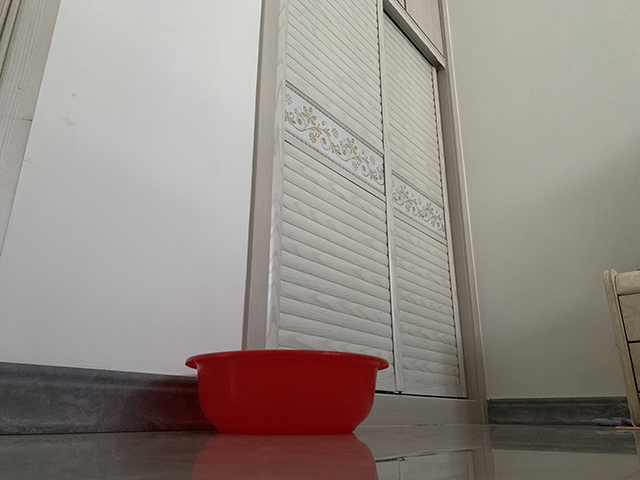cabinet: (240, 1, 491, 430)
